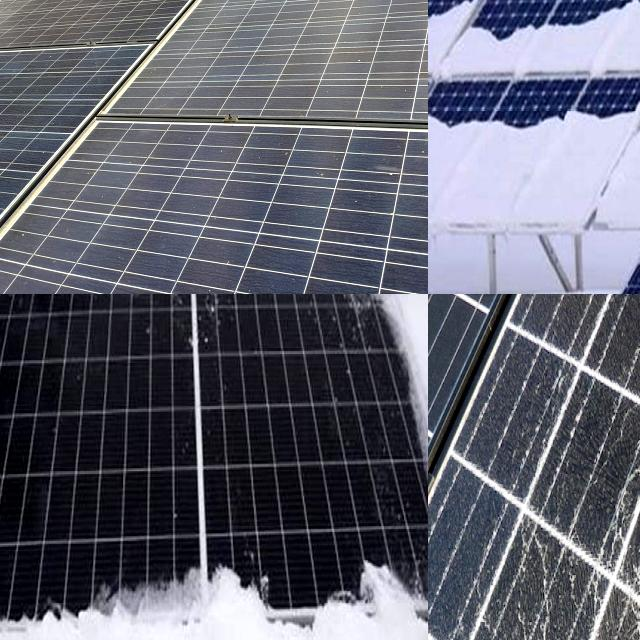dust: (181, 162, 357, 294), (67, 171, 164, 294), (234, 0, 317, 102), (349, 0, 428, 98), (0, 35, 62, 119)
panel: (428, 178, 559, 245), (0, 315, 27, 634), (62, 565, 168, 640), (313, 554, 405, 640), (502, 177, 640, 233), (174, 562, 264, 634), (519, 4, 593, 65), (302, 294, 402, 337), (428, 0, 476, 72), (467, 17, 528, 72), (589, 97, 640, 160), (588, 0, 640, 58), (0, 596, 67, 640), (428, 103, 479, 156), (81, 294, 188, 319), (496, 109, 574, 142), (196, 294, 294, 319), (0, 294, 68, 308)
